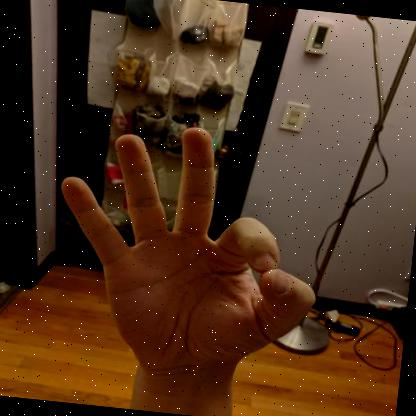F: (60, 127, 315, 385)
